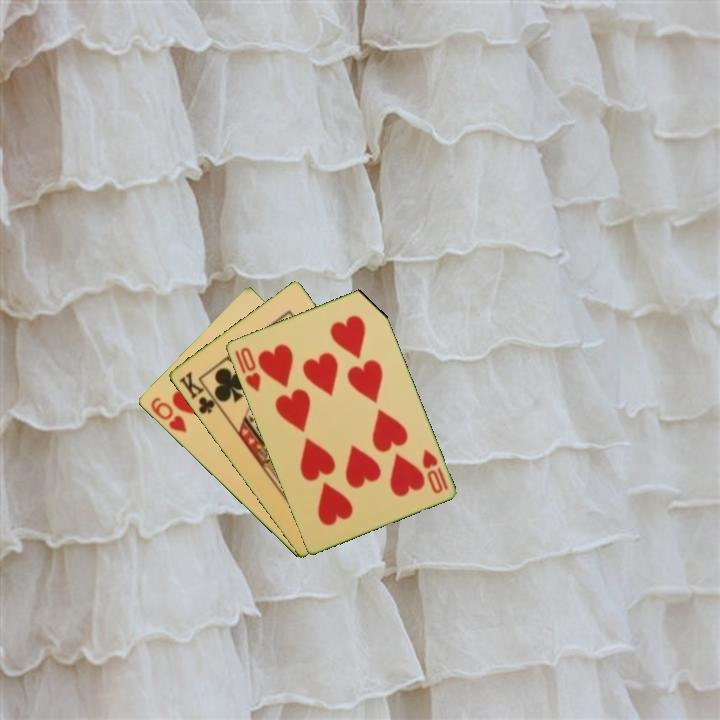10h: (418, 446, 451, 496), (236, 343, 263, 394)
6h: (147, 394, 189, 436)
Kc: (175, 368, 222, 417)
